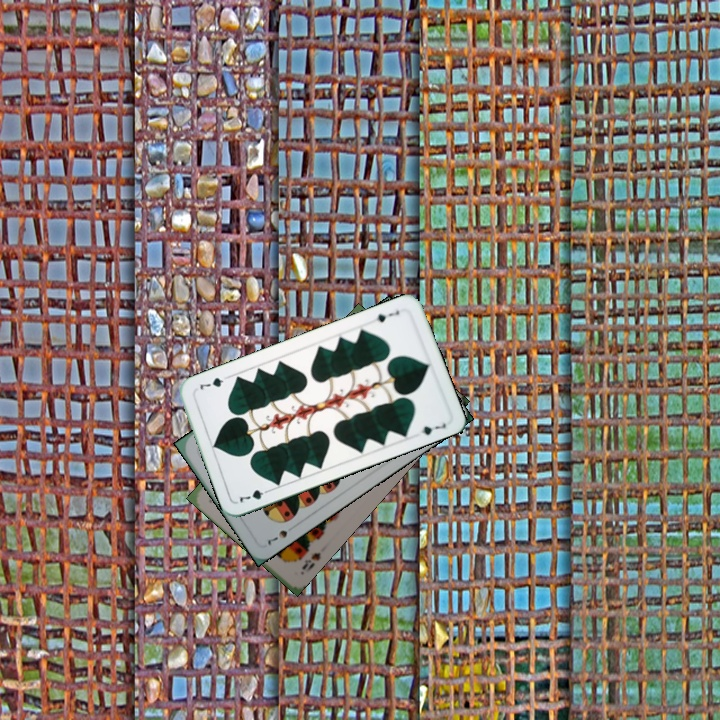G7: (235, 485, 274, 505), (367, 306, 402, 325)
S7: (263, 526, 290, 548)
S8: (298, 548, 323, 572)
